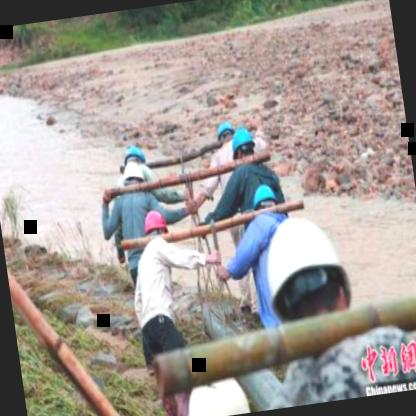helmet: (243, 200, 371, 364), (118, 154, 154, 194), (140, 204, 172, 249), (227, 126, 260, 168), (247, 178, 281, 218), (211, 115, 237, 148), (119, 138, 146, 168)
